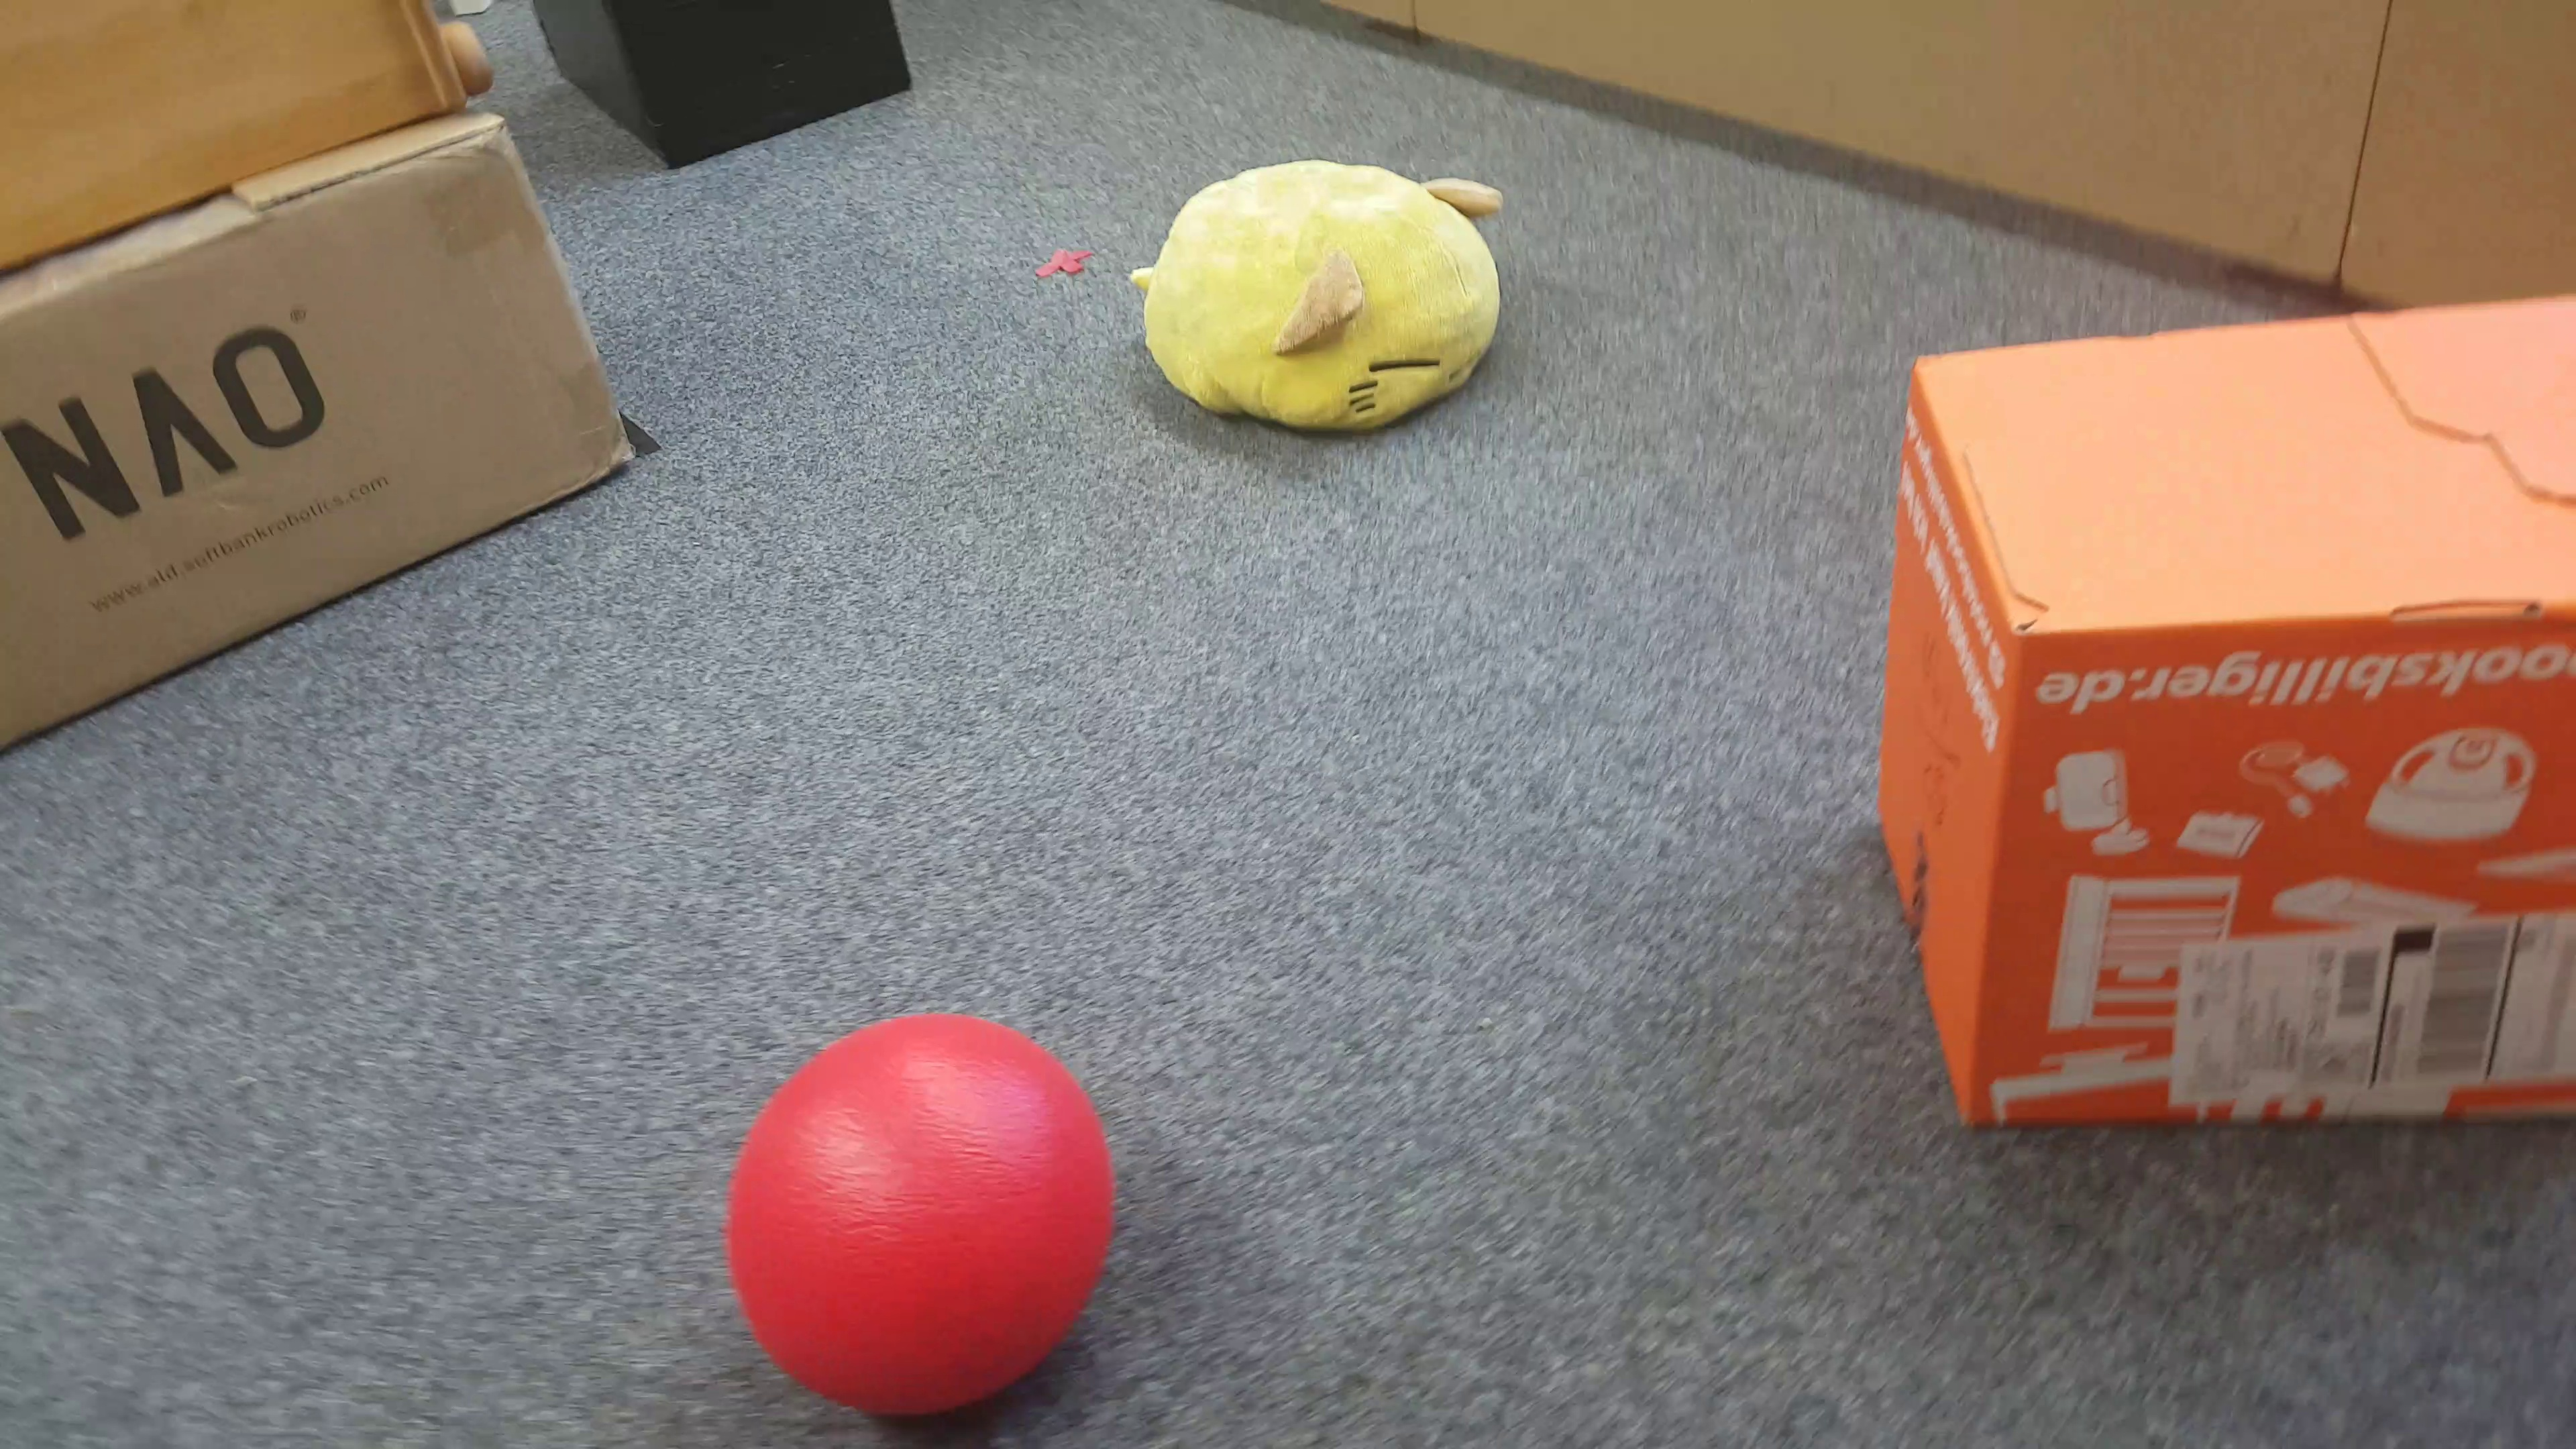grasp: (1134, 159, 1502, 439)
kick: (731, 1010, 1115, 1417)
push: (1879, 295, 2576, 1122), (538, 2, 924, 180)
